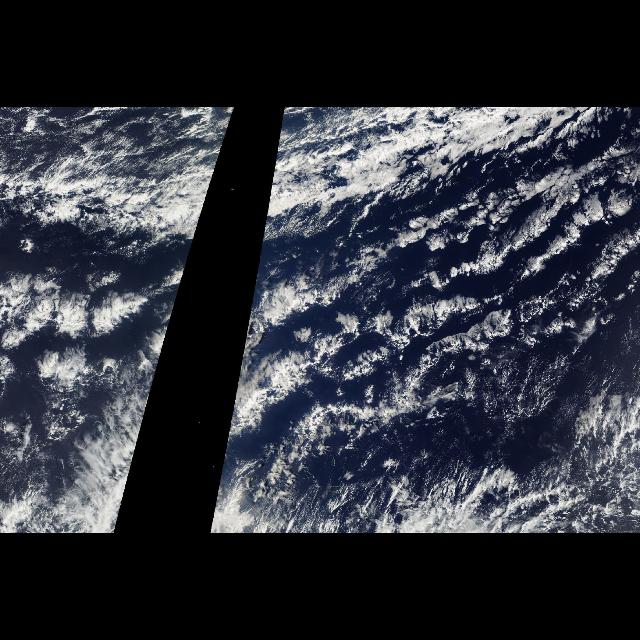Fish: (237, 152, 633, 440), (1, 151, 221, 385)
Flower: (242, 252, 636, 356), (1, 252, 189, 356)
